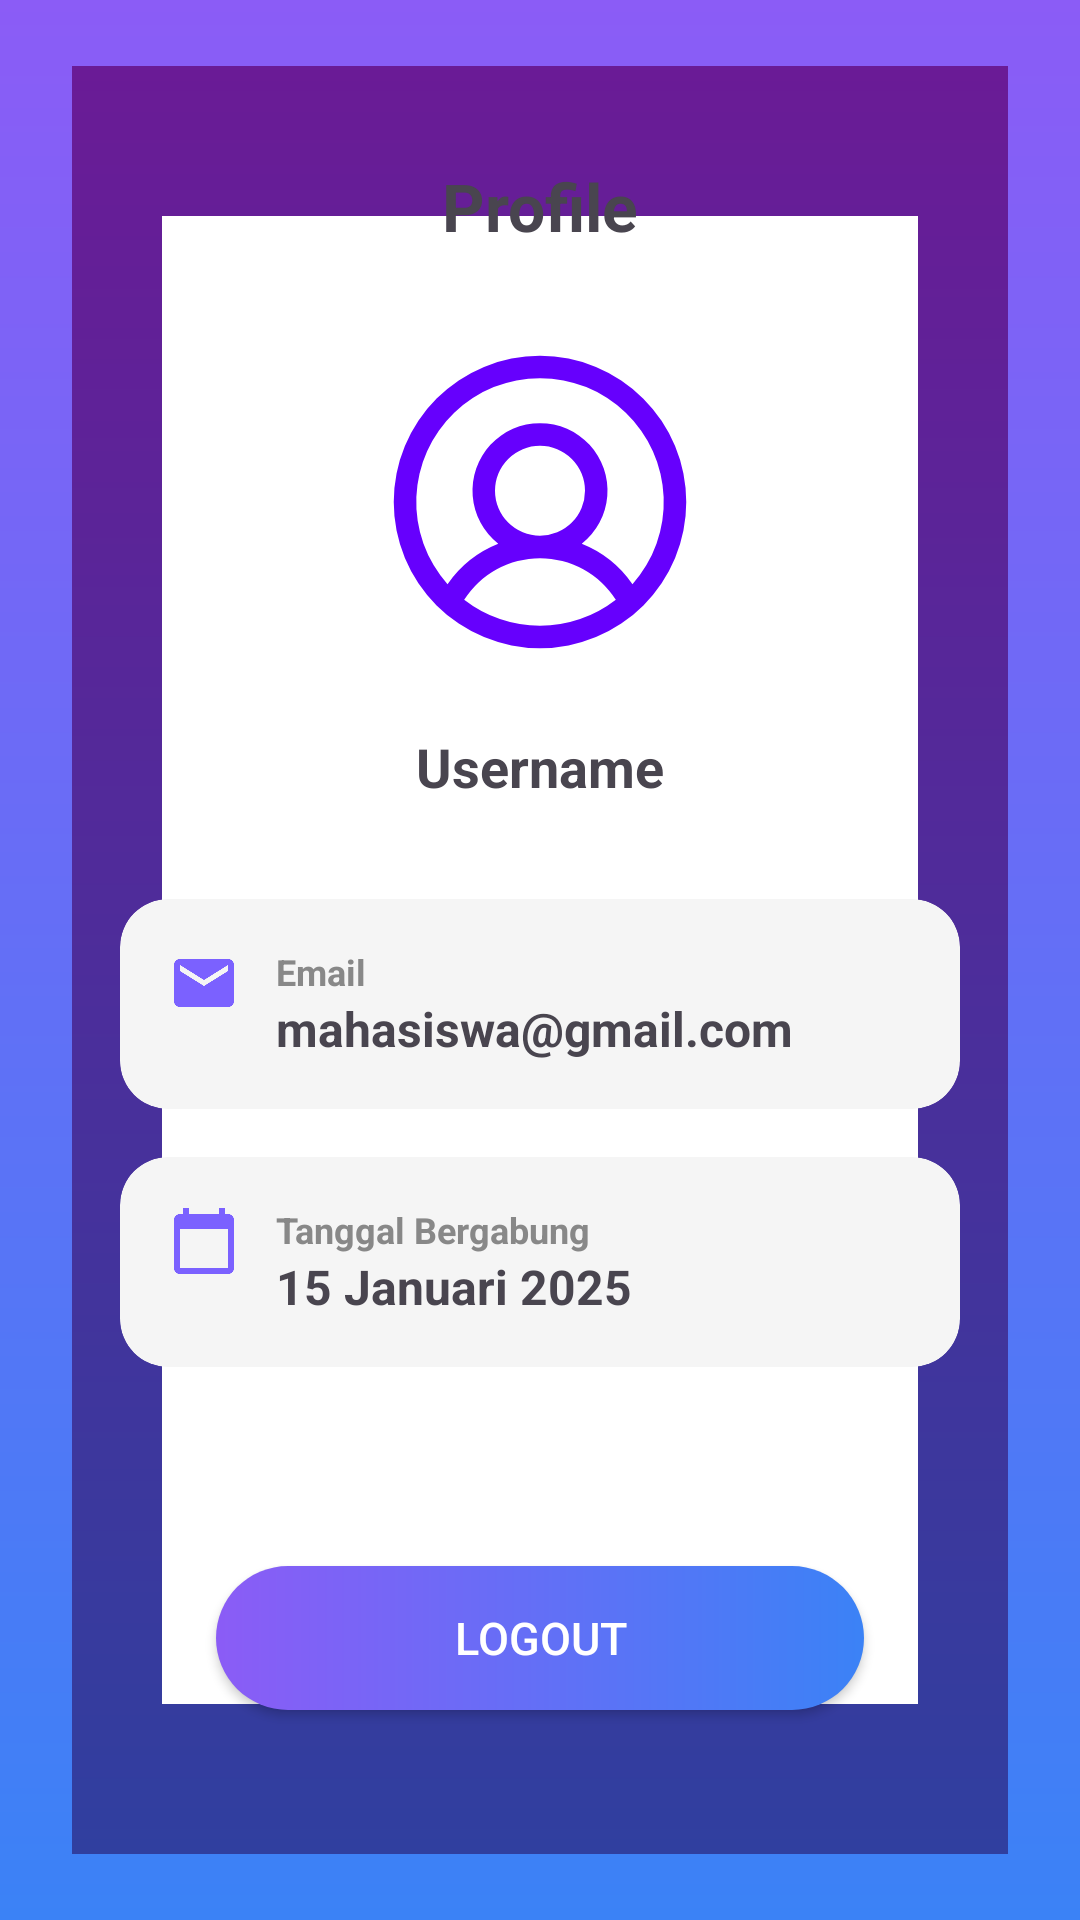

Icons on this 1080px x 1920px Android screen, each with the point to tap as (x,y):
calendar: (204,1241)
